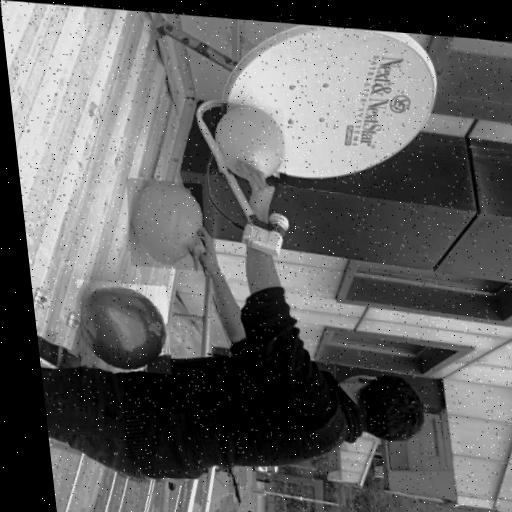balloon: (75, 279, 178, 374), (124, 177, 212, 271), (208, 101, 291, 185)
